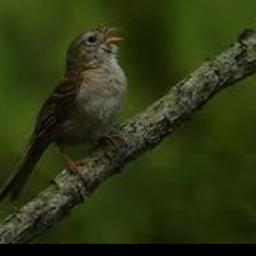Sparrow: (0, 23, 129, 206)
